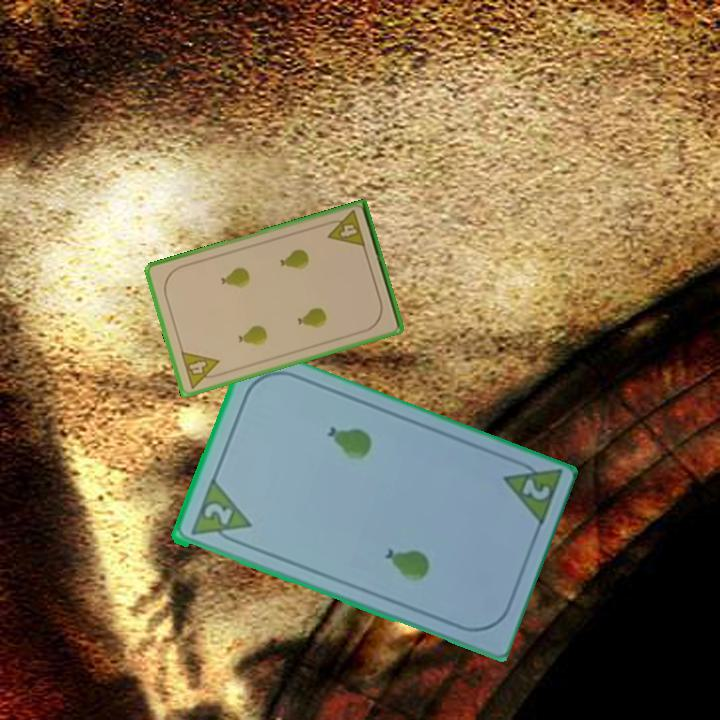2p: (498, 454, 563, 532), (186, 478, 253, 550)
4p: (177, 348, 226, 391), (321, 207, 368, 250)
